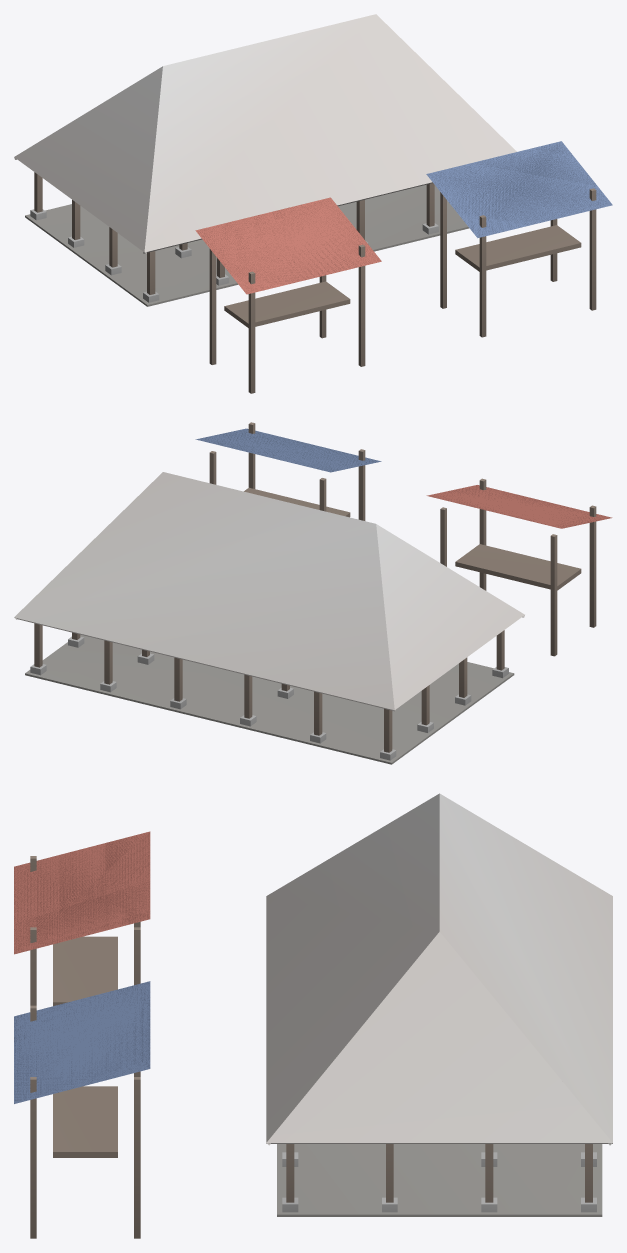
The model's file is market_1.glb.
The picture shows the model from 3 angles, top to bottom: view 1: azimuth 30°, elevation 25°; view 2: azimuth 150°, elevation 25°; view 3: azimuth 270°, elevation 25°; orthographic projection. The views are drawn at different scales.
Visible parts, largest first — view 1: market_1; view 2: market_1; view 3: market_1.
Part boxes in pixels (box(x1,y1,x2,y2)): market_1: box(14, 14, 612, 393); market_1: box(14, 422, 612, 764); market_1: box(14, 793, 612, 1238).
Bounding box in the file's own units: 19.79 × 9.88 × 20.29.
